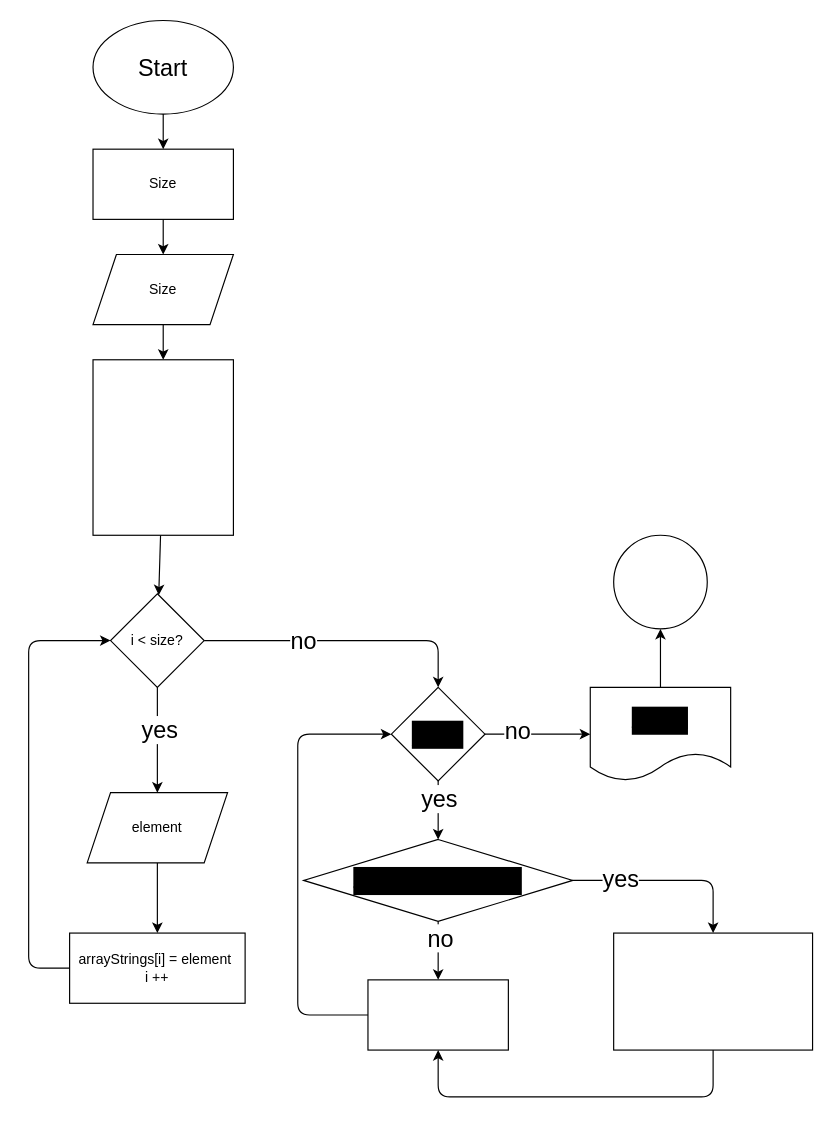
This 833x1127 diagram has some shape labels left out. The shapes that lost their labels are listed below. From the top down, each one's box as (x1, y1, x2, y2) in pixels, then its label:
(92, 359, 233, 535): arrayString[size] arrayFinal[size] element i = 0 j = 0 len = 3 pos = 0
(612, 534, 707, 629): final
(612, 932, 813, 1050): arrayFinal[pos] = arrayStrings[j] pos++
(367, 979, 508, 1050): j++
